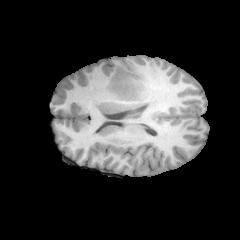glioma: (105, 66, 143, 108)
